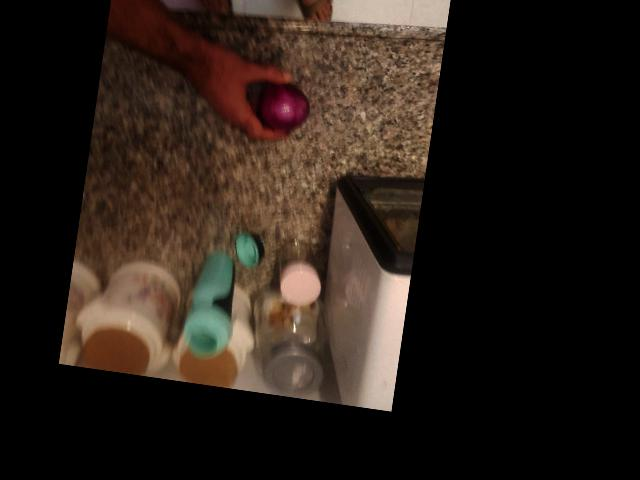onion: (337, 217, 407, 283)
